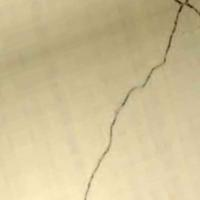crack: (79, 0, 198, 198)
